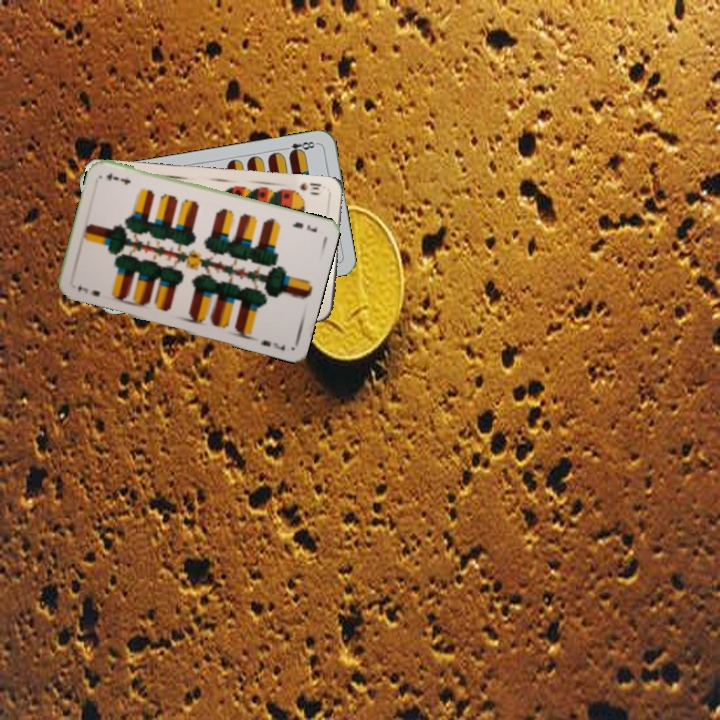E7: (288, 218, 319, 235), (74, 282, 103, 299)
E8: (279, 137, 320, 157)
S10: (295, 178, 324, 197)
